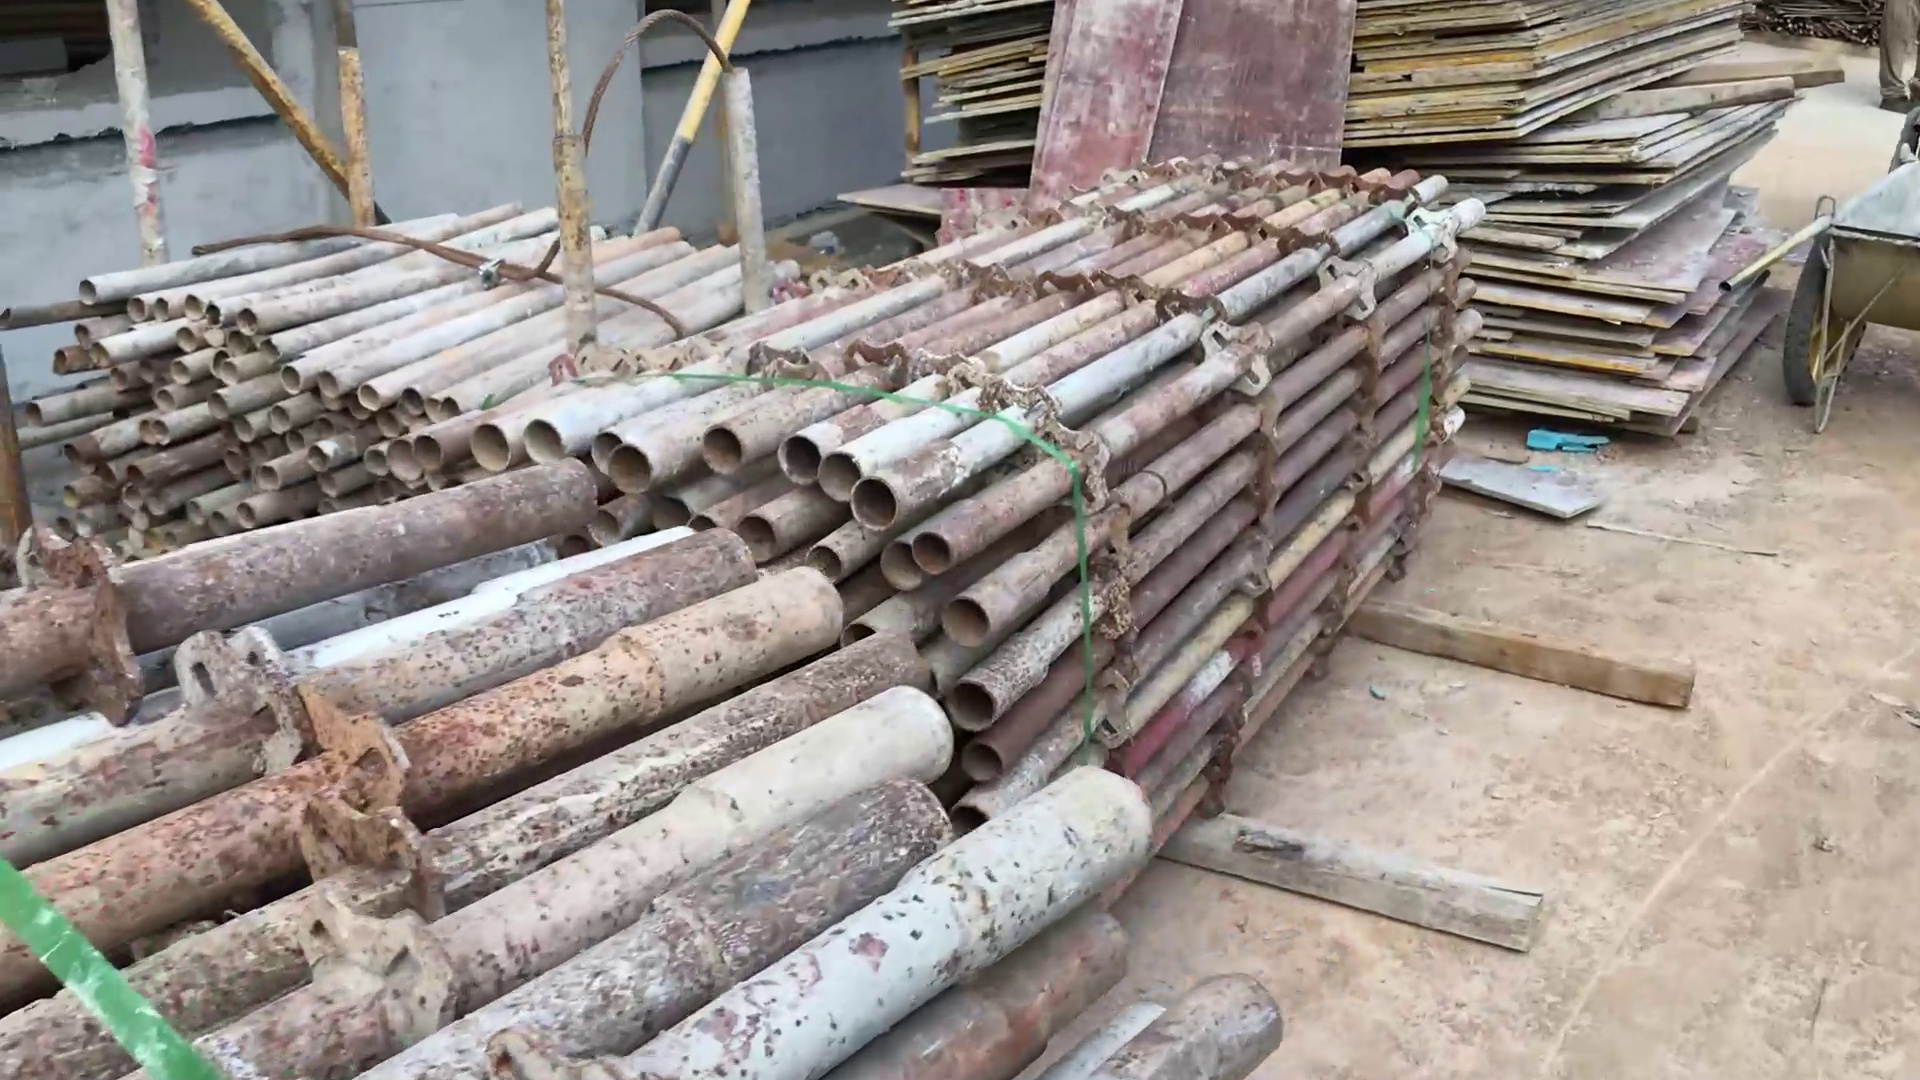board: (1342, 1, 1800, 447)
handcart: (1738, 156, 1920, 425)
scaffold: (1, 440, 1286, 1075), (381, 152, 1491, 864), (24, 174, 804, 568)
